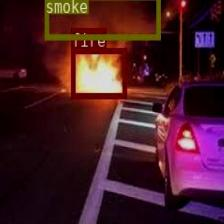fire: (70, 47, 126, 97)
smoke: (44, 0, 160, 39)
